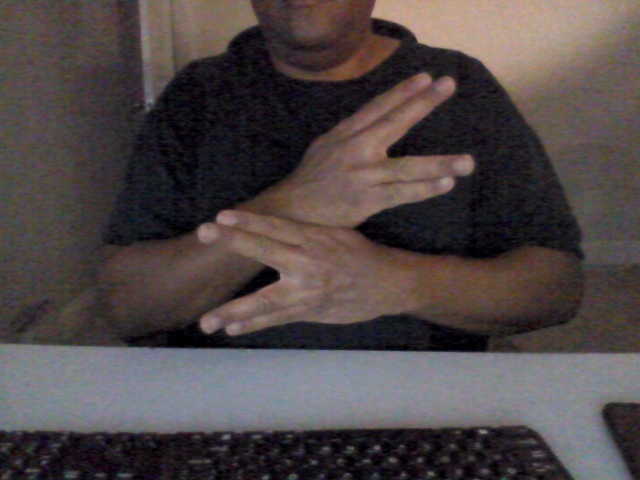world: (191, 71, 474, 339)
